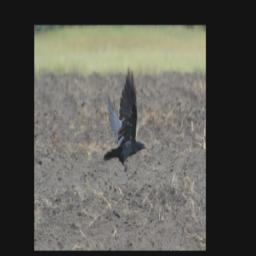Crow: (103, 64, 148, 174)
